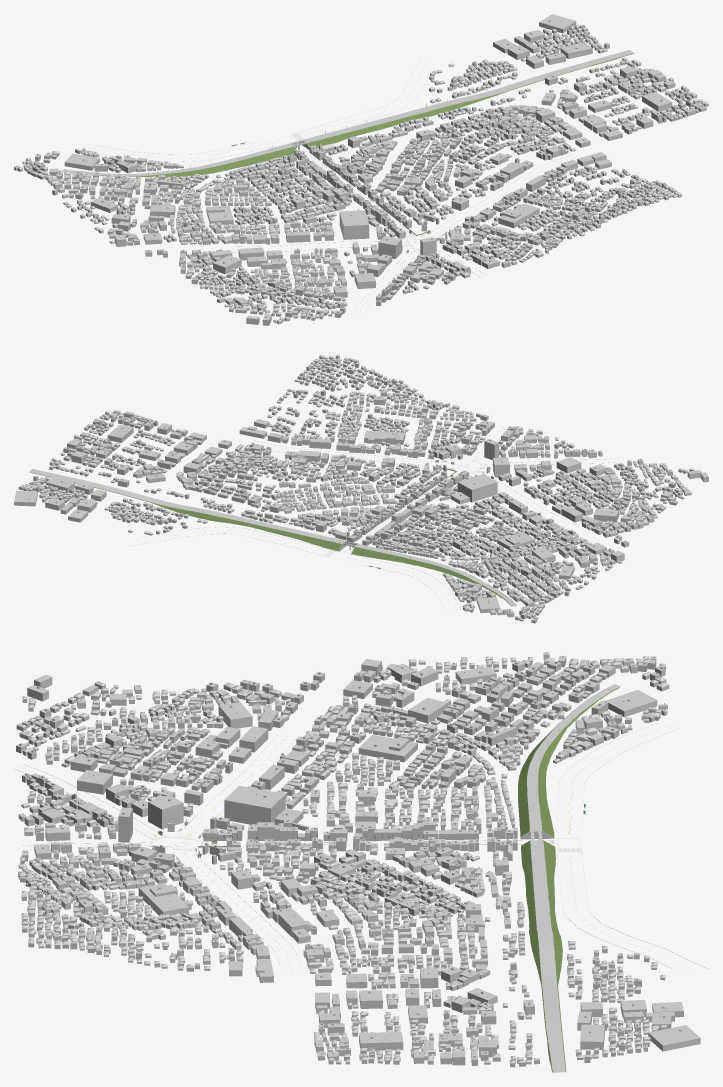
File: campus_town.glb
3 views of the same model, one above another, from view 1: azimuth 30°, elevation 25°; view 2: azimuth 150°, elevation 25°; view 3: azimuth 270°, elevation 25° (orthographic). The views are drawn at different scales.
Parts seen in each view (by area): view 1: town_houses_-1_-3, town_houses_0_-3, town_houses_-2_-4, town_houses_-2_-3, town_houses_0_-4, town_houses_-1_-4, town_houses_1_-2, town_houses_-2_-2, town_houses_1_-3, town_houses_0_-2, town_houses_-1_-2, town_houses_1_-4 (+9 smaller); view 2: town_houses_-1_-3, town_houses_0_-4, town_houses_0_-3, town_houses_-2_-4, town_houses_-2_-3, town_houses_-1_-4, town_houses_1_-2, town_houses_-2_-2, town_houses_1_-3, town_houses_0_-2, town_houses_1_-4, town_houses_-1_-2 (+9 smaller); view 3: town_houses_-2_-4, town_houses_-1_-3, town_houses_-2_-3, town_houses_0_-3, town_houses_-2_-2, town_houses_-1_-4, town_houses_0_-4, town_houses_1_-3, town_houses_1_-2, town_houses_-1_-2, town_houses_0_-2, town_houses_1_-4 (+10 smaller).
Boxes of the visible parts, x1,y1,x2,y2 form: town_houses_-1_-3: (234,156,440,241); town_houses_0_-3: (372,118,567,211); town_houses_-2_-4: (185,248,382,325); town_houses_-2_-3: (111,190,310,274); town_houses_0_-4: (443,177,642,262); town_houses_-1_-4: (319,211,517,302); town_houses_1_-2: (430,28,631,118); town_houses_-2_-2: (35,148,232,212); town_houses_1_-3: (498,85,675,175); town_houses_0_-2: (348,76,496,157); town_houses_-1_-2: (224,143,368,187); town_houses_1_-4: (574,159,681,205); town_houses_-1_-3: (344,466,513,550); town_houses_0_-4: (299,362,473,466); town_houses_0_-3: (225,433,408,517); town_houses_-2_-4: (532,450,708,525); town_houses_-2_-3: (460,499,643,567); town_houses_-1_-4: (411,413,594,496); town_houses_1_-2: (39,449,216,535); town_houses_-2_-2: (441,545,574,617); town_houses_1_-3: (103,418,289,482); town_houses_0_-2: (163,482,336,532); town_houses_1_-4: (254,354,358,432); town_houses_-1_-2: (328,515,453,558); town_houses_-2_-4: (16,674,252,786); town_houses_-1_-3: (224,768,458,872); town_houses_-2_-3: (228,667,459,789); town_houses_0_-3: (229,861,461,955); town_houses_-2_-2: (447,666,669,778); town_houses_-1_-4: (18,770,240,872); town_houses_0_-4: (18,859,236,949); town_houses_1_-3: (236,943,462,1043); town_houses_1_-2: (447,949,683,1049); town_houses_-1_-2: (449,774,517,871); town_houses_0_-2: (448,860,639,960); town_houses_1_-4: (21,913,242,976).
Size of the model in its own units: 1352 by 89.68 by 963.
